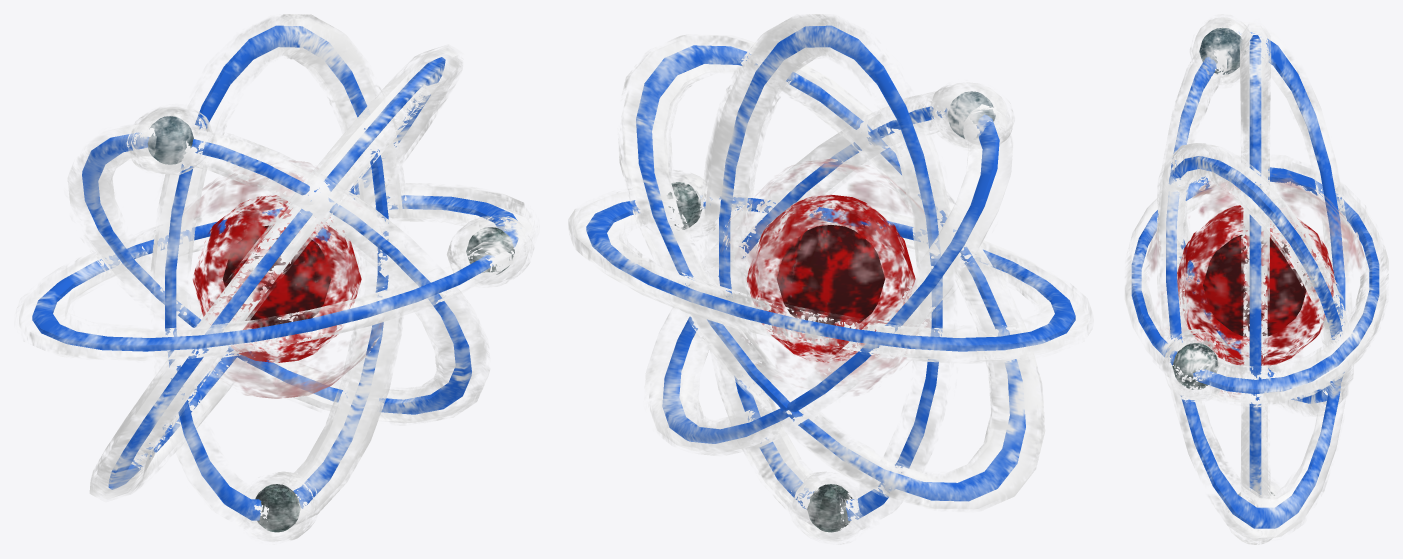
The model's file is atom-transformed.glb.
The picture shows the model from 3 angles, left to right: view 1: azimuth 30°, elevation 25°; view 2: azimuth 150°, elevation 25°; view 3: azimuth 270°, elevation 25°; orthographic projection. The views are drawn at different scales.
Parts seen in each view (by area): view 1: Object_2; view 2: Object_2; view 3: Object_2.
Boxes of the visible parts, x1=… form: Object_2: x1=16, y1=14, x2=539, y2=544; Object_2: x1=568, y1=14, x2=1093, y2=544; Object_2: x1=1124, y1=14, x2=1388, y2=544.
Size of the model in its own units: 96.67 by 95.63 by 45.34.
Materials: 1 (1 with a texture image).
